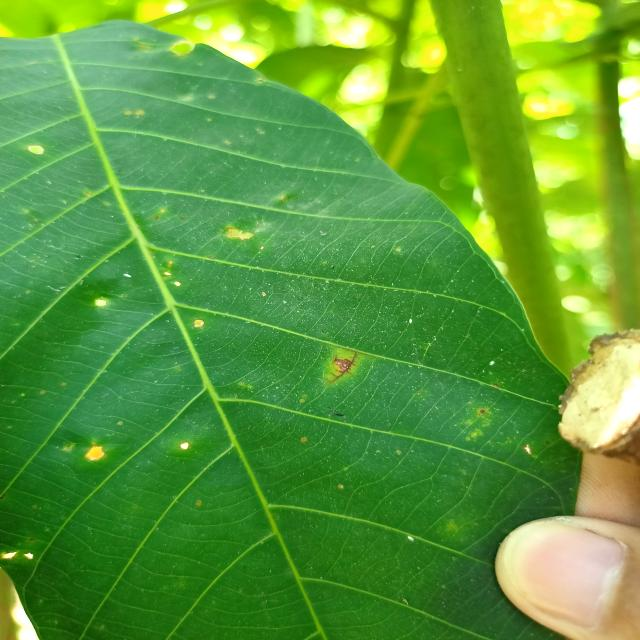Colletotrichum: (193, 318, 206, 328), (179, 442, 191, 451)
Corynespora: (328, 352, 359, 384)
